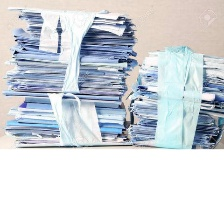book: (2, 1, 137, 150), (126, 40, 224, 152)
